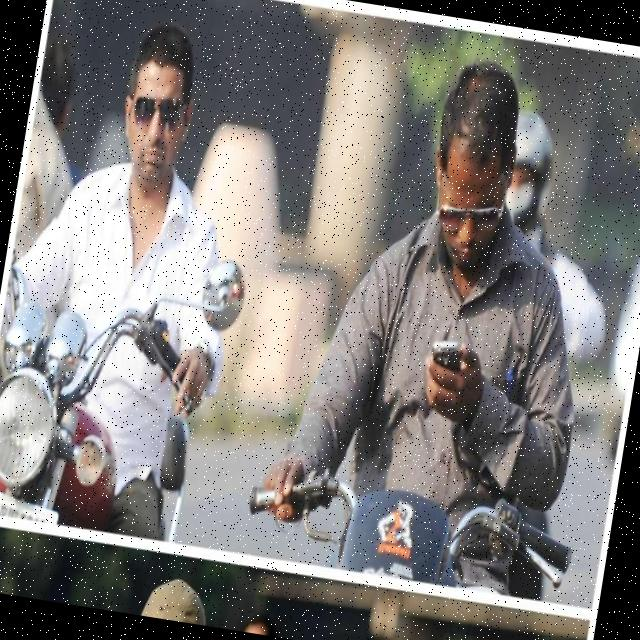No helmet: (400, 64, 546, 280), (104, 9, 241, 222)
